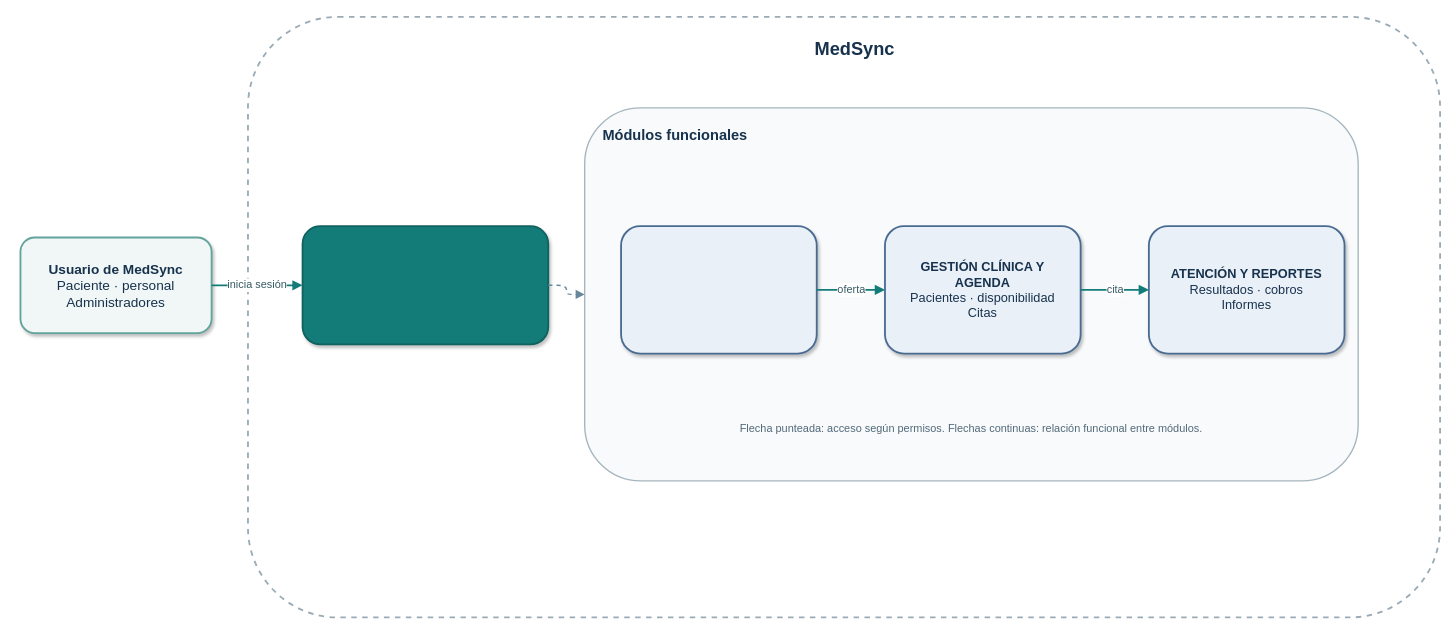
Image size: 1456x633. Some labels were removed from this diagram. Here are the shapes that lost their labels. From the top down, the centre of each, then its label:
the point at 426,286: CUENTAS Y ACCESO Sesión · centro activo · permisos
the point at 719,290: ADMINISTRACIÓN Centros · especialidades Servicios · profesionales
